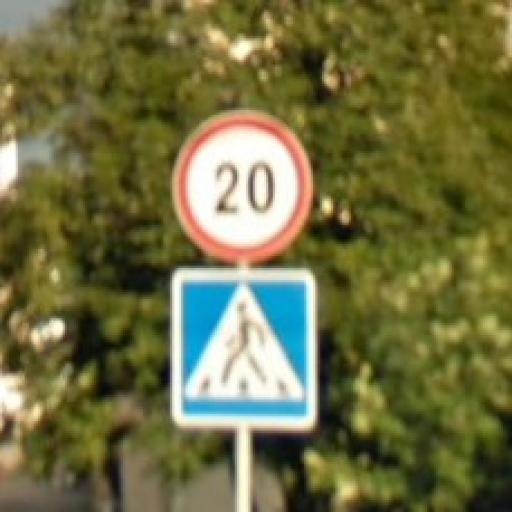traffic_sign: (171, 269, 318, 434), (171, 109, 316, 264)
